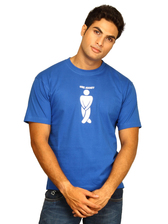clothoes: (25, 53, 143, 193)
